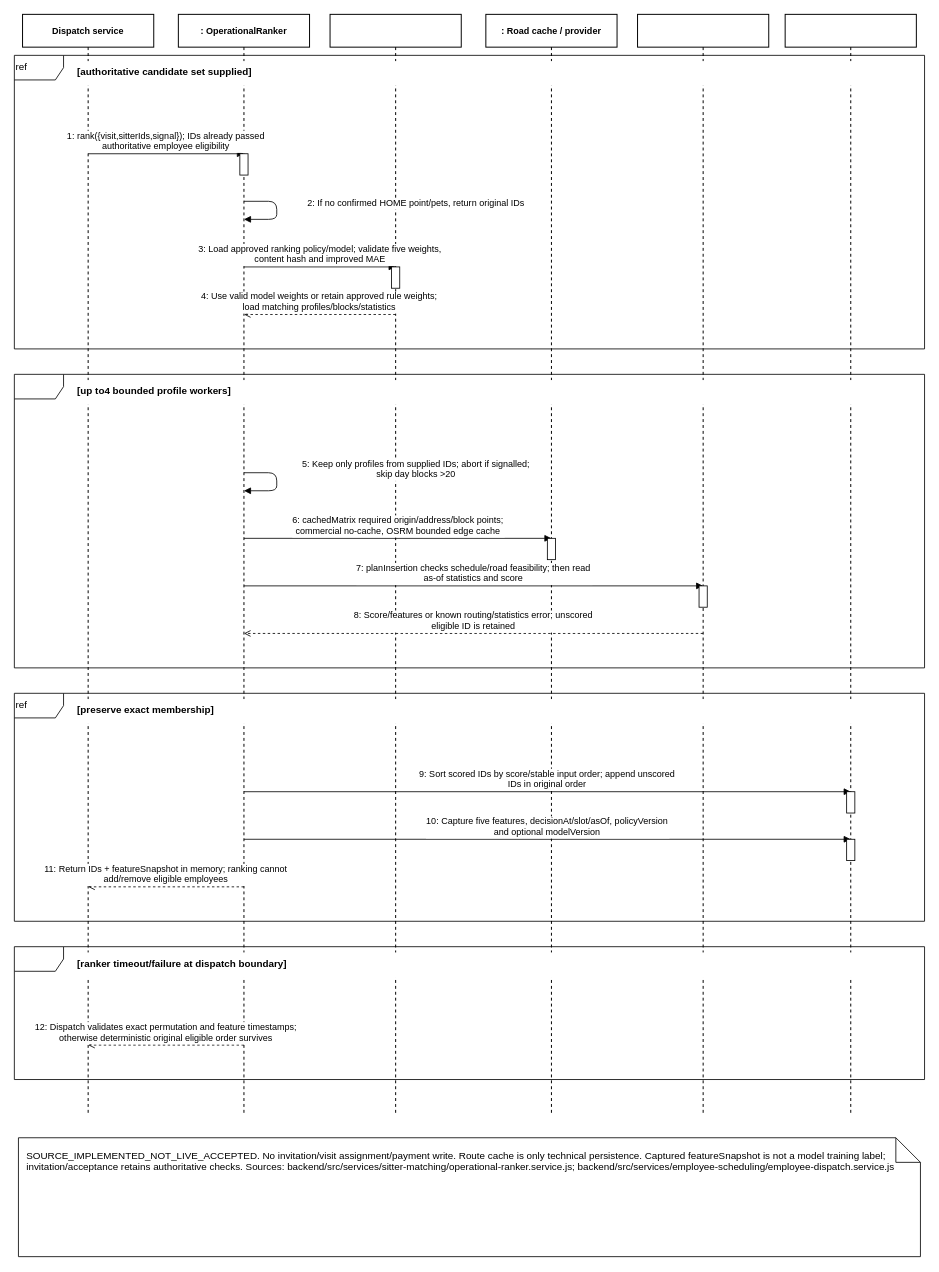
Some shapes in this 939 by 1272 pixel diagram are drawn without their labels. The box of each missing label's shape, as (x1, y1, x2, y2) in pixels:
: In-memory shortlist: (784, 13, 916, 1113)
: Insertion / scoreSitter: (637, 13, 769, 1113)
: Matching repository: (329, 13, 461, 1113)
alt: (14, 946, 925, 1080)
loop: (14, 374, 925, 668)
